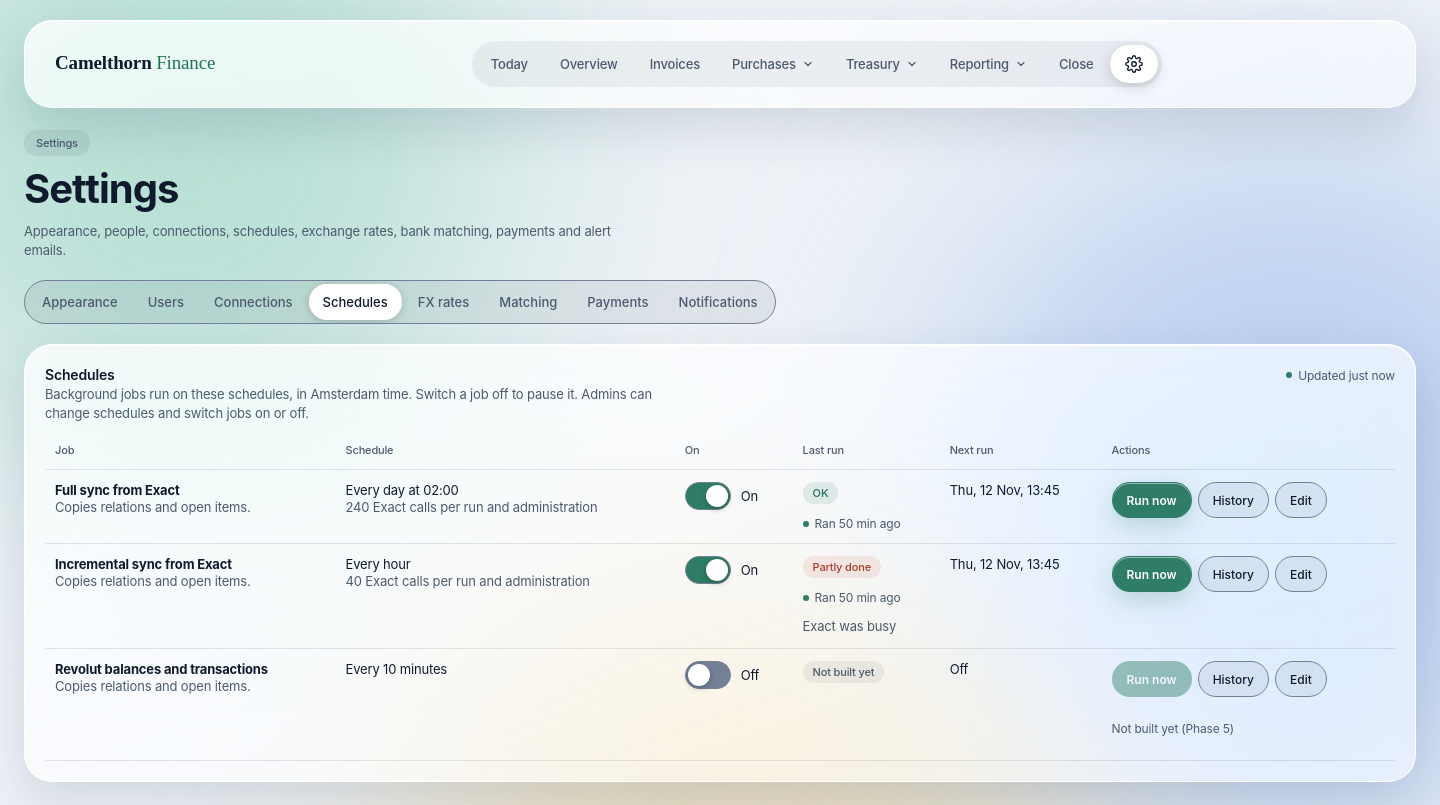
Test: Settings, Schedules › switching and running › explains a 409 and a 429 in words
Expected: the text "Full sync from Exact" is shown, [55, 482, 180, 498]
Click the button with aria-label "Run Full sync from Exact now". click: (1152,500)
box: [1112, 482, 1192, 518]
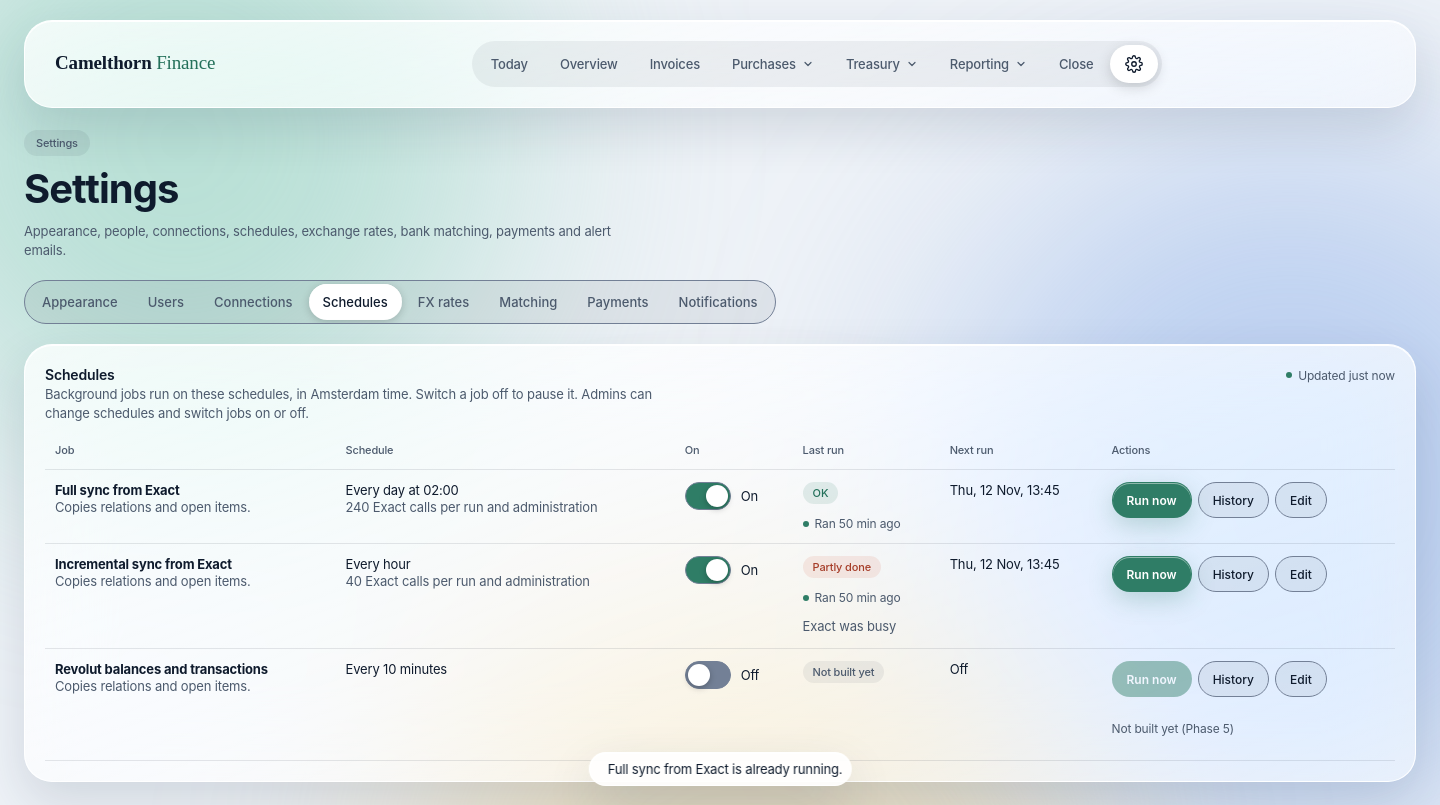
Expected: the text "Full sync from Exact is already running." is shown, [608, 761, 842, 777]
Click the button with aria-label "Run Full sync from Exact now". click: (1152,500)
box: [1112, 482, 1192, 518]
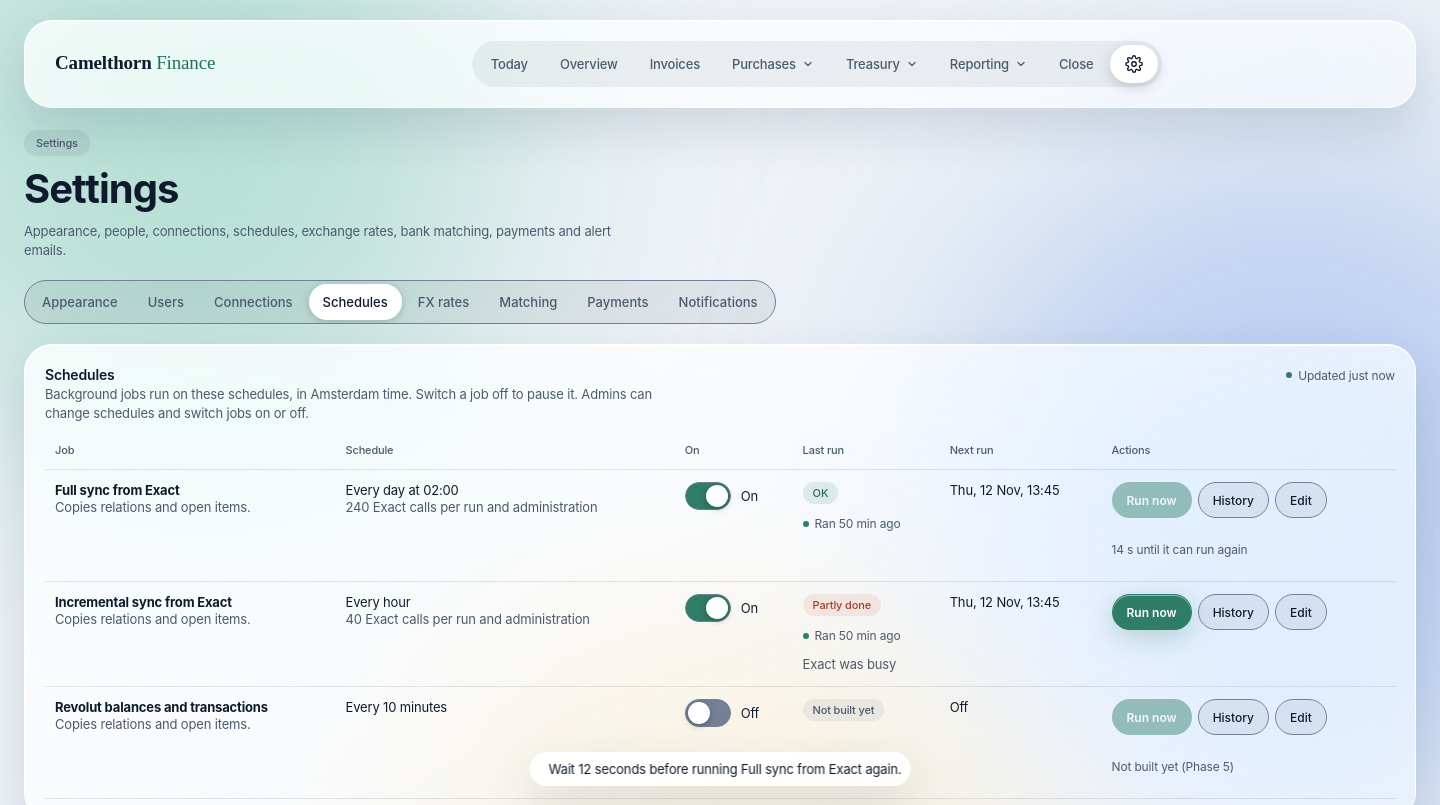
Expected: the text "Wait 12 seconds before running Full sync from Exact again." is shown, [549, 761, 901, 777]
